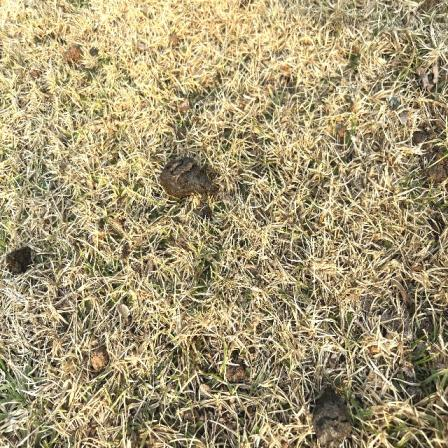dog-poop: (152, 151, 220, 206), (308, 384, 356, 446), (5, 246, 34, 274)
